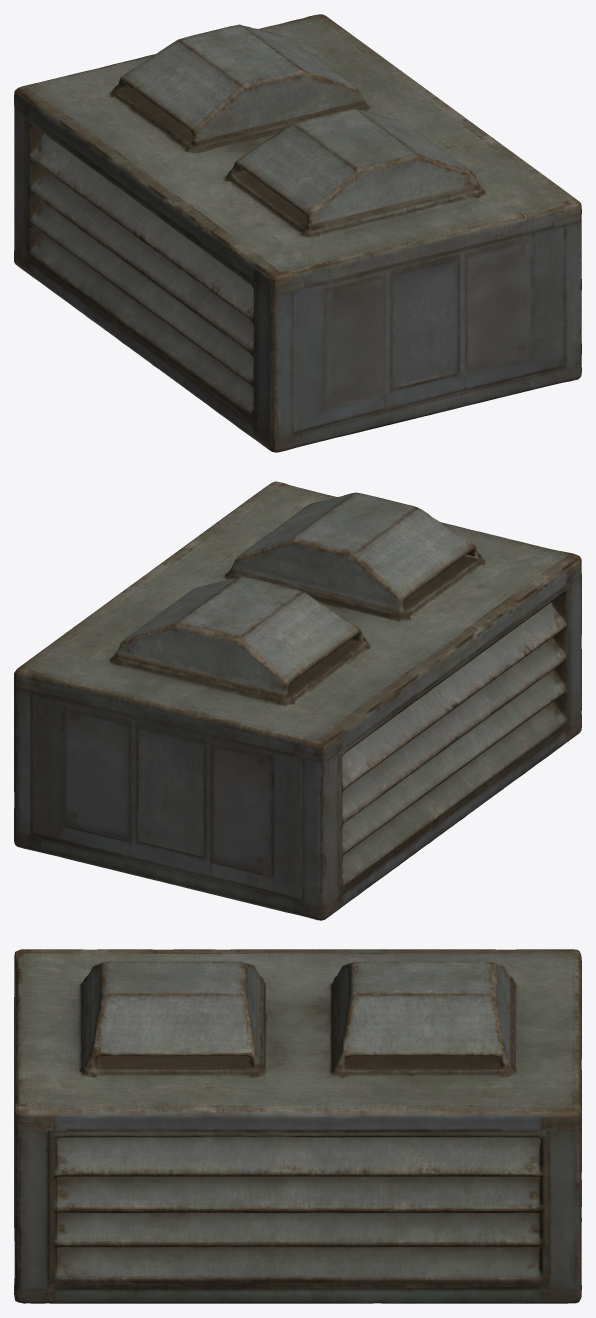
Rendered from raw.glb.
3 views of the same model, one above another, from view 1: azimuth 30°, elevation 25°; view 2: azimuth 150°, elevation 25°; view 3: azimuth 270°, elevation 25° (orthographic). The views are drawn at different scales.
Bounding box in the file's own units: 0.7038 × 0.4819 × 1.01.
1 material, 1 textured.
